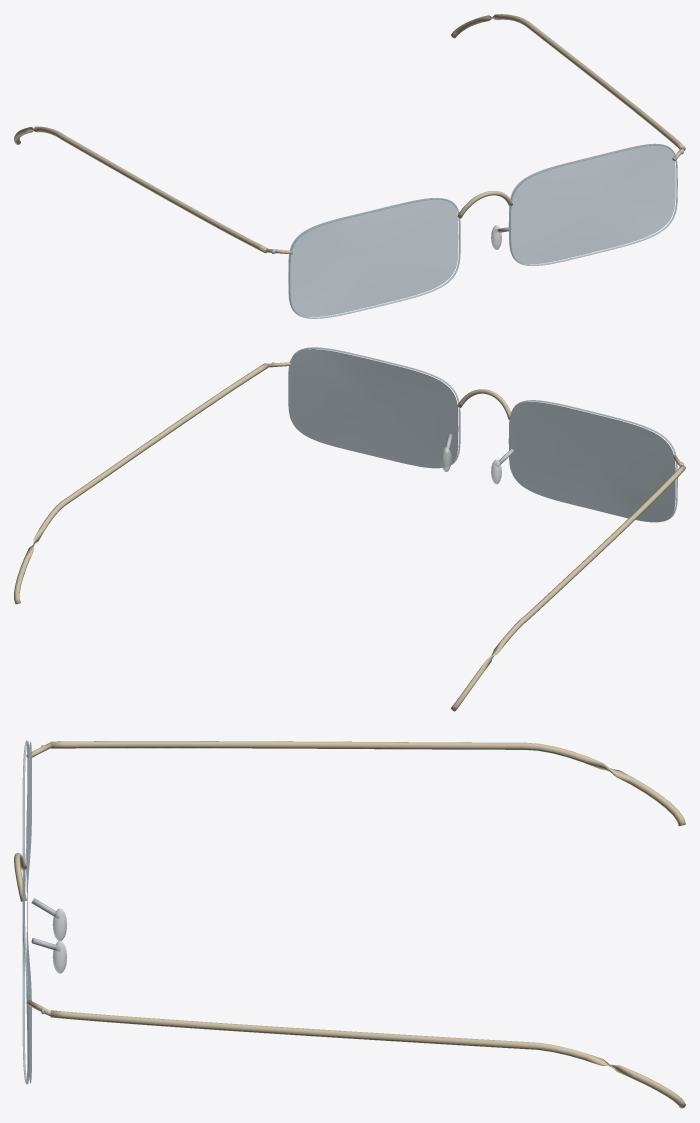
Rendered from tim-15-v1.glb.
3 views of the same model, one above another, from view 1: azimuth 30°, elevation 25°; view 2: azimuth 150°, elevation 25°; view 3: azimuth 270°, elevation 25° (orthographic). The views are drawn at different scales.
Visible parts, largest first — view 1: lens_right, lens_left, temple_right, temple_left, polished_glass_edge_right, polished_glass_edge_left; view 2: lens_left, lens_right, temple_left, temple_right; view 3: temple_right, temple_left, polished_glass_edge_left, lens_right, lens_left.
Part boxes in pixels (bbox=[...]): lens_right: bbox=[288, 198, 458, 316]; lens_left: bbox=[508, 143, 675, 264]; temple_right: bbox=[14, 126, 267, 252]; temple_left: bbox=[451, 14, 685, 150]; polished_glass_edge_right: bbox=[288, 198, 460, 318]; polished_glass_edge_left: bbox=[509, 144, 677, 265]; lens_left: bbox=[288, 349, 458, 468]; lens_right: bbox=[508, 402, 675, 522]; temple_left: bbox=[14, 363, 268, 604]; temple_right: bbox=[451, 465, 685, 711]; temple_right: bbox=[50, 741, 685, 826]; temple_left: bbox=[50, 1010, 685, 1108]; polished_glass_edge_left: bbox=[22, 881, 29, 1084]; lens_right: bbox=[26, 741, 31, 907]; lens_left: bbox=[26, 883, 31, 1083].
Size of the model in its own units: 0.1587 by 0.0315 by 0.149.
